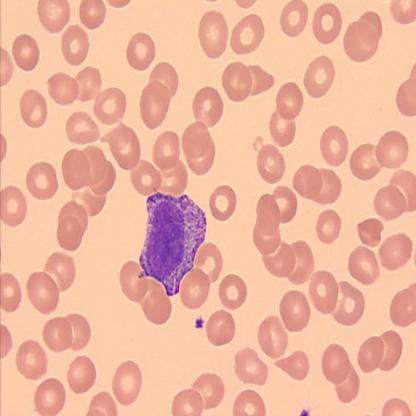Myelocyte: (140, 191, 208, 296)
